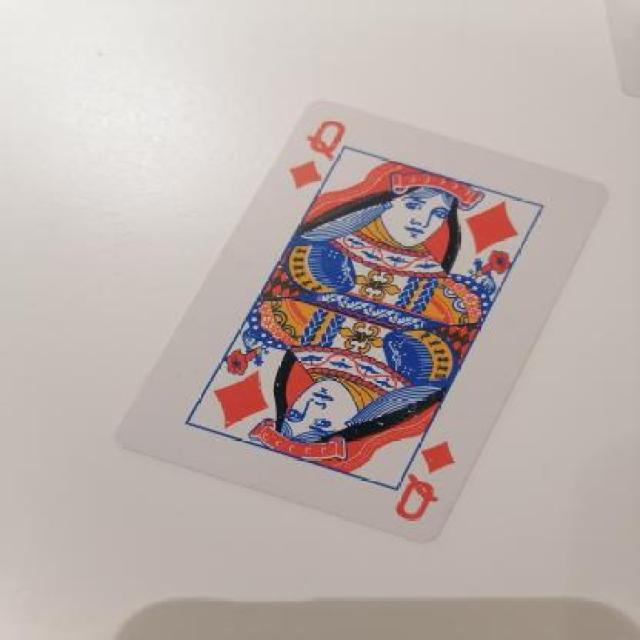QD: (373, 427, 481, 530), (278, 105, 370, 204)
